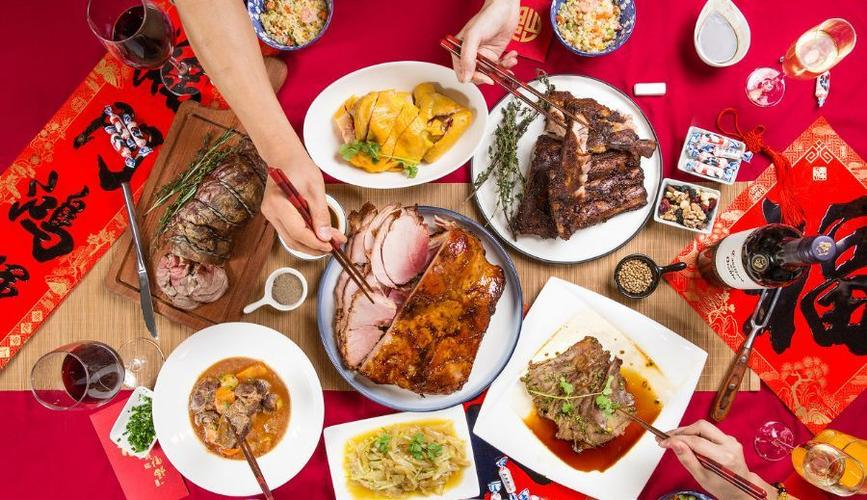food: (319, 195, 527, 414), (486, 289, 695, 472), (476, 52, 659, 260), (160, 321, 318, 489), (308, 57, 485, 189), (328, 403, 475, 494)
